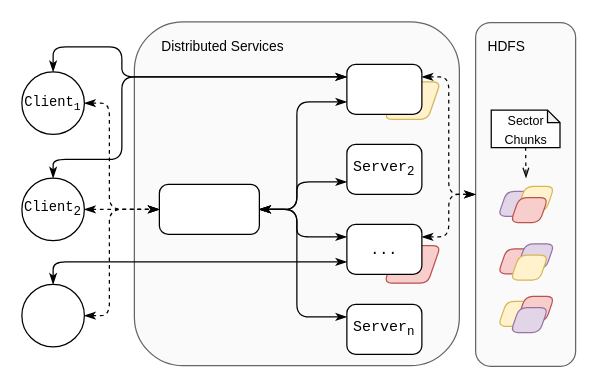
This 598x389 diagram has some shape labels left out. The shapes that lost their labels are listed below. From the top down, each one's centre as x and y in pixels, then its label:
point (384, 88): Server 1
point (208, 208): Switch
point (52, 315): Client 3
